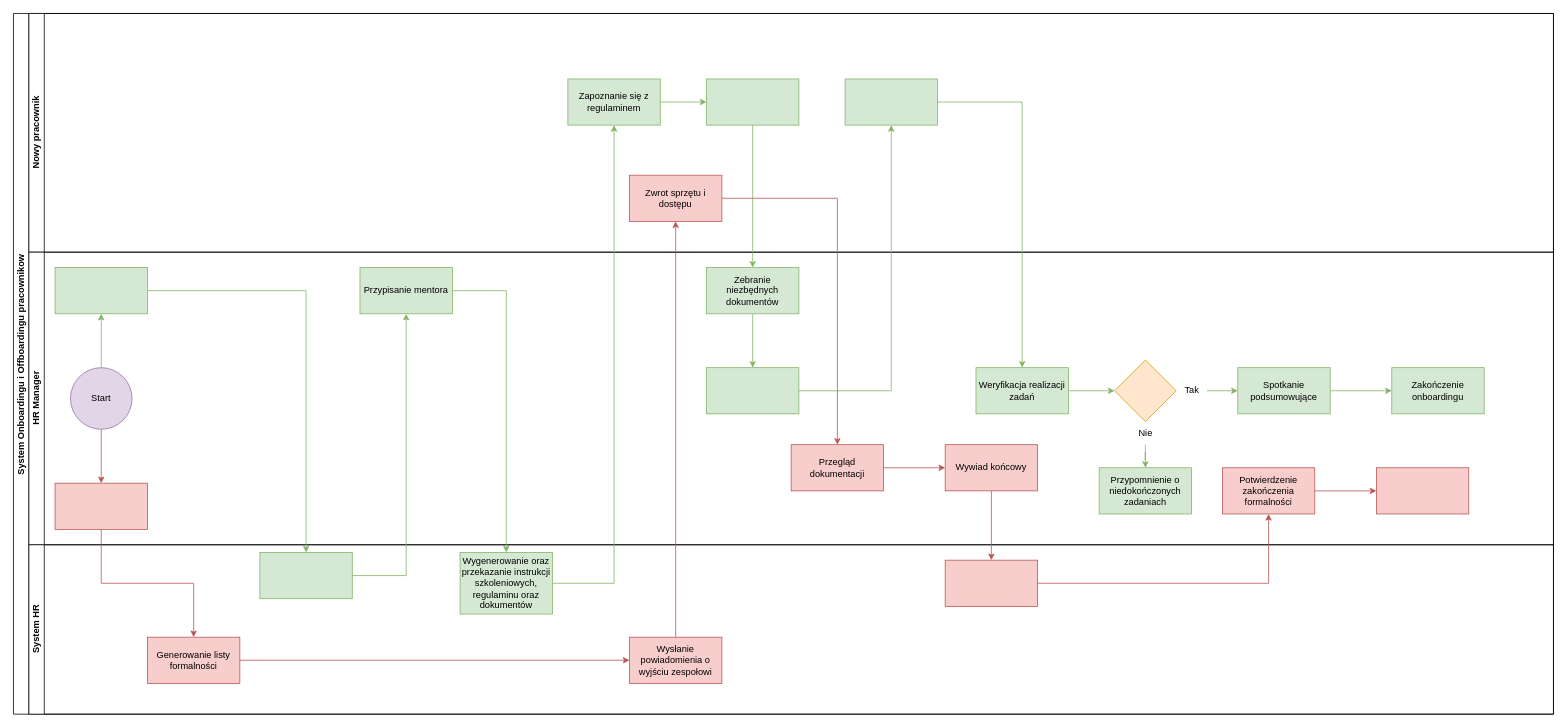
Some shapes in this 1567 by 728 pixel diagram are drawn without their labels. The centre of each missing label's shape, as x and y in pixels:
Czy wszystkie szkolenia zostały ukończone?: the point at 1145,390
Inicjacja offboardingu: the point at 100,505
Podpisanie dokumentów: the point at 752,101
Przydzielenie Sprzętu i dostępu: the point at 752,390
Rozpoczęcie Onboardingu: the point at 100,290
Rozpoczęcie szkolenia: the point at 890,101
Wygenerowanie harmonogramu wdrożenia: the point at 305,575
Wygenerowanie raportu: the point at 991,582
Zamknięcie procesu: the point at 1422,490
